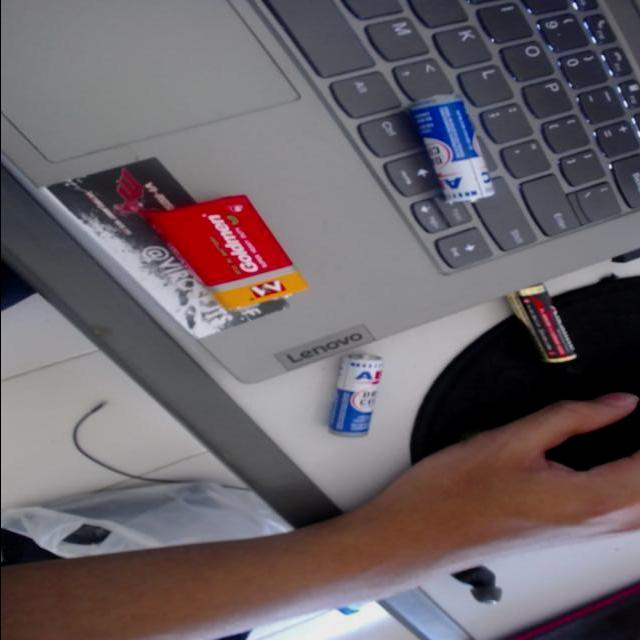9V: (142, 177, 326, 320)
AA: (406, 85, 504, 218), (496, 272, 584, 376), (312, 346, 402, 444)
